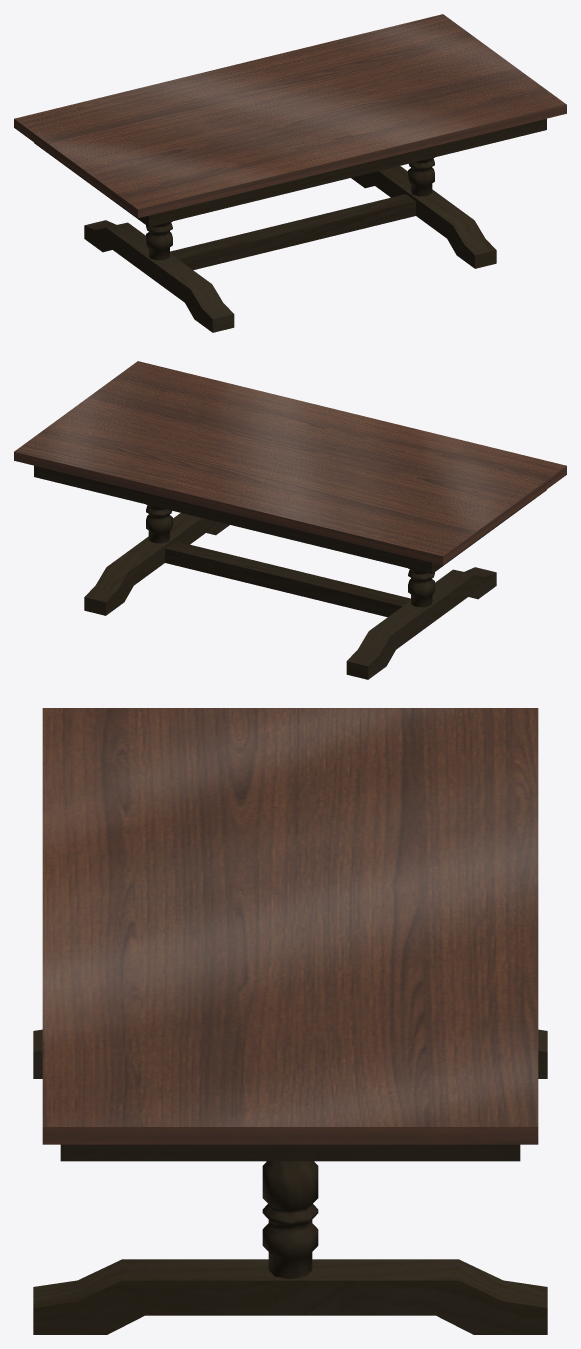
The model's file is table01.FBX.
3 views of the same model, one above another, from view 1: azimuth 30°, elevation 25°; view 2: azimuth 150°, elevation 25°; view 3: azimuth 270°, elevation 25° (orthographic). The views are drawn at different scales.
Visible parts, largest first — view 1: Box001; view 2: Box001; view 3: Box001.
Boxes of the visible parts, x1,y1,x2,y2 form: Box001: (14, 14, 566, 332); Box001: (14, 361, 566, 679); Box001: (33, 708, 547, 1334).
Size of the model in its own units: 200 by 62.13 by 104.
